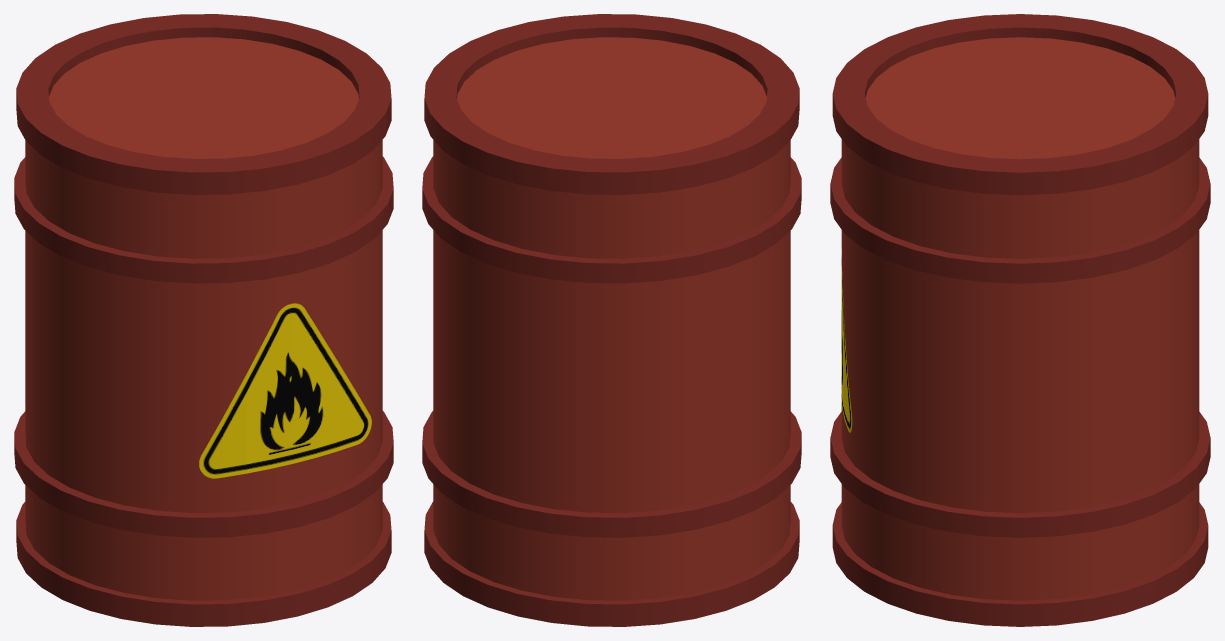
File: explosive.fbx
3 views of the same model, side by side, from view 1: azimuth 30°, elevation 25°; view 2: azimuth 150°, elevation 25°; view 3: azimuth 270°, elevation 25° (orthographic).
Visible parts, largest first — view 1: Explosive, Danger-Fire-PNG-Photos; view 2: Explosive; view 3: Explosive, Danger-Fire-PNG-Photos.
Boxes of the visible parts, x1=… form: Explosive: x1=14, y1=14, x2=393, y2=626; Danger-Fire-PNG-Photos: x1=199, y1=303, x2=371, y2=478; Explosive: x1=422, y1=14, x2=801, y2=626; Explosive: x1=830, y1=14, x2=1210, y2=626; Danger-Fire-PNG-Photos: x1=841, y1=248, x2=852, y2=432.
Bounding box in the file's own units: 106 × 140 × 106.
Materials: 3 (1 with a texture image).
